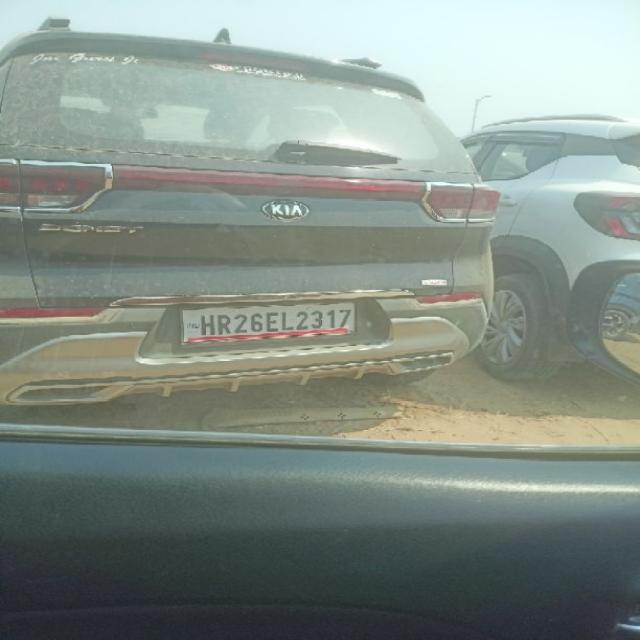license_plate: (178, 300, 356, 344)
